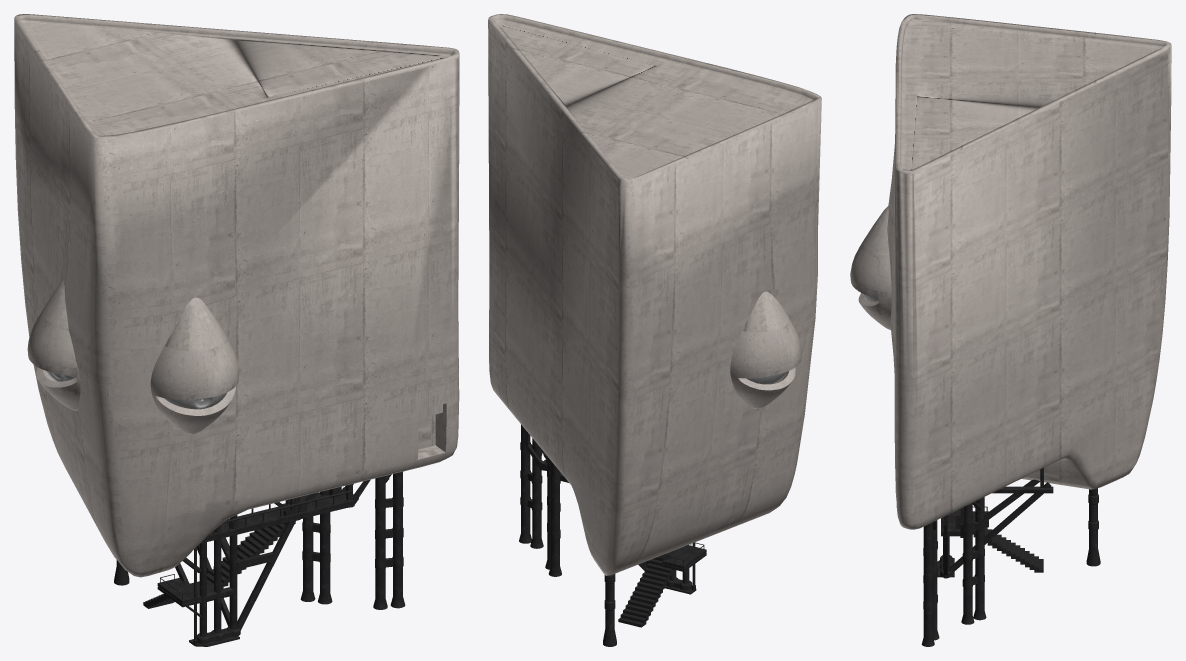
Rendered from facearch.glb.
3 renders of one model, left to right at view 1: azimuth 30°, elevation 25°; view 2: azimuth 150°, elevation 25°; view 3: azimuth 270°, elevation 25°, orthographic. The views are drawn at different scales.
Visible parts, largest first — view 1: polySurface119, Default1, Eyeball:Default, polySurface82, polySurface83, pCube16, polySurface86, polySurface98, polySurface85, polySurface84, pCube22, Eyeballs2; view 2: polySurface119, Eyeball:Default, polySurface82, polySurface83, polySurface109, pCube22; view 3: polySurface119, Default1, polySurface83, polySurface82, polySurface109, polySurface103.
Part boxes in pixels (bbox=[...]): polySurface119: bbox=[14, 14, 459, 577]; Default1: bbox=[150, 297, 238, 434]; Eyeball:Default: bbox=[27, 279, 80, 410]; polySurface82: bbox=[373, 471, 405, 609]; polySurface83: bbox=[300, 490, 332, 604]; pCube16: bbox=[200, 494, 354, 543]; polySurface86: bbox=[226, 515, 240, 636]; polySurface98: bbox=[237, 520, 296, 630]; polySurface85: bbox=[211, 525, 224, 640]; polySurface84: bbox=[197, 542, 209, 644]; pCube22: bbox=[157, 578, 201, 607]; Eyeballs2: bbox=[46, 371, 227, 409]; polySurface119: bbox=[488, 14, 821, 575]; Eyeball:Default: bbox=[730, 291, 801, 408]; polySurface82: bbox=[519, 424, 543, 548]; polySurface83: bbox=[545, 456, 561, 576]; polySurface109: bbox=[603, 574, 616, 646]; pCube22: bbox=[662, 545, 706, 571]; polySurface119: bbox=[887, 14, 1171, 529]; Default1: bbox=[850, 206, 891, 329]; polySurface83: bbox=[961, 497, 986, 624]; polySurface82: bbox=[921, 520, 939, 646]; polySurface109: bbox=[1086, 488, 1100, 566]; polySurface103: bbox=[948, 482, 1051, 572].
Bounding box in the file's own units: 22.31 × 31.1 × 18.3.
Materials: 3 (3 with a texture image).
